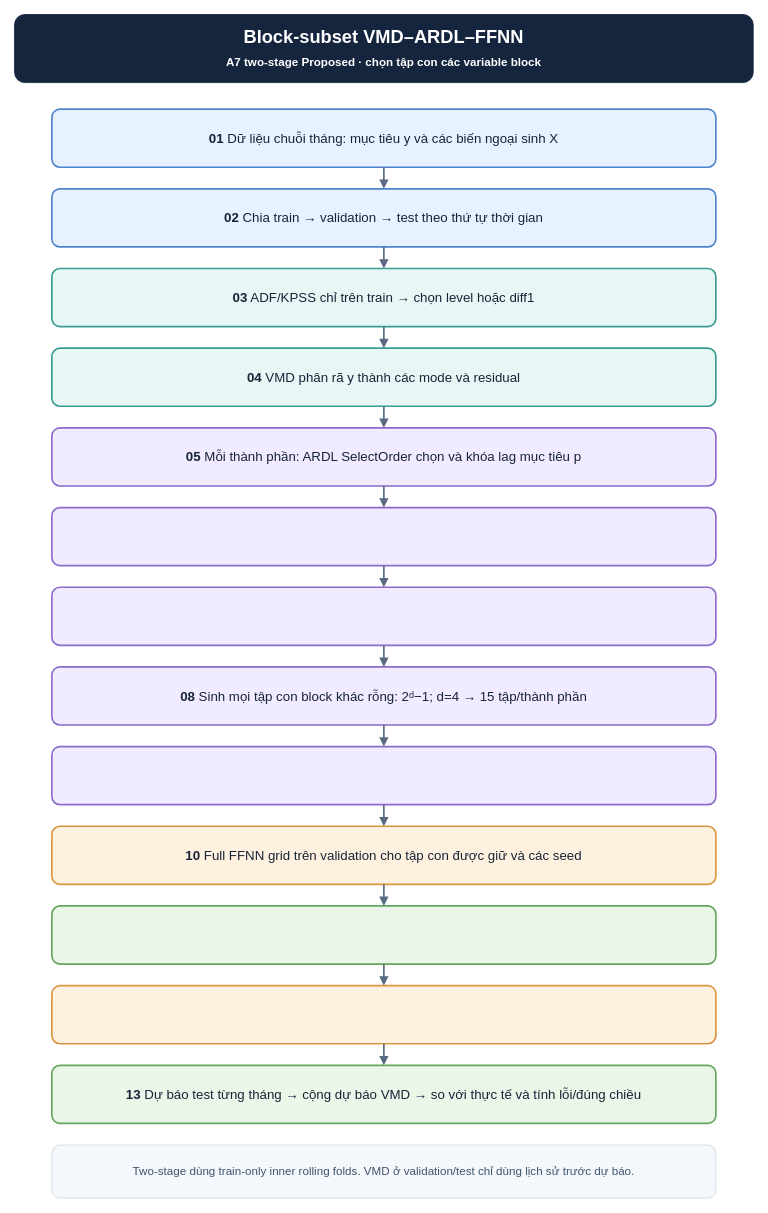
The diagram is 768 pixels wide and 1213 high, and some of its shapes have lost their labels. Each missing label, with the centre of its shape:
"06 AIC chọn một bậc lag qⱼ cho từng biến ngoại sinh xⱼ" goes at point 383,536.
"07 Tạo block Bⱼ = {xⱼ,t−1, …, xⱼ,t−qⱼ}" goes at point 383,616.
"09 Rolling fast-screen trong train → giữ top 4 tập con/thành phần" goes at point 383,775.
"11 Ghép tổ hợp thành phần; chọn mean level RMSE tái dựng qua các seed" goes at point 383,934.
"12 Khóa tổ hợp thắng; fit lại trên train + validation cho từng seed" goes at point 383,1014.
